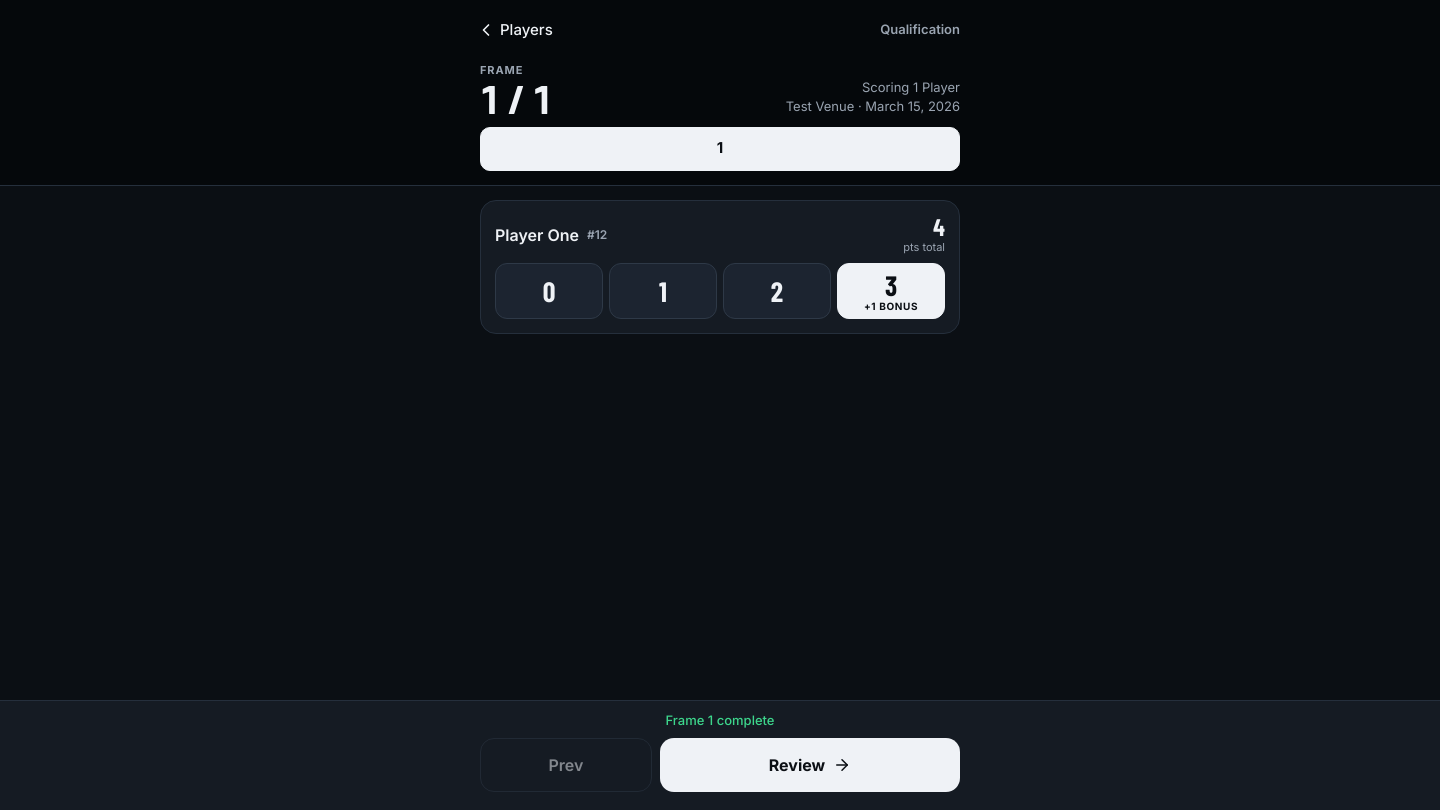
QualificationScoringPage › returns to scoring when editing a frame from review
Click the button "Review": click(810, 765) x1=660 y1=738 x2=960 y2=792
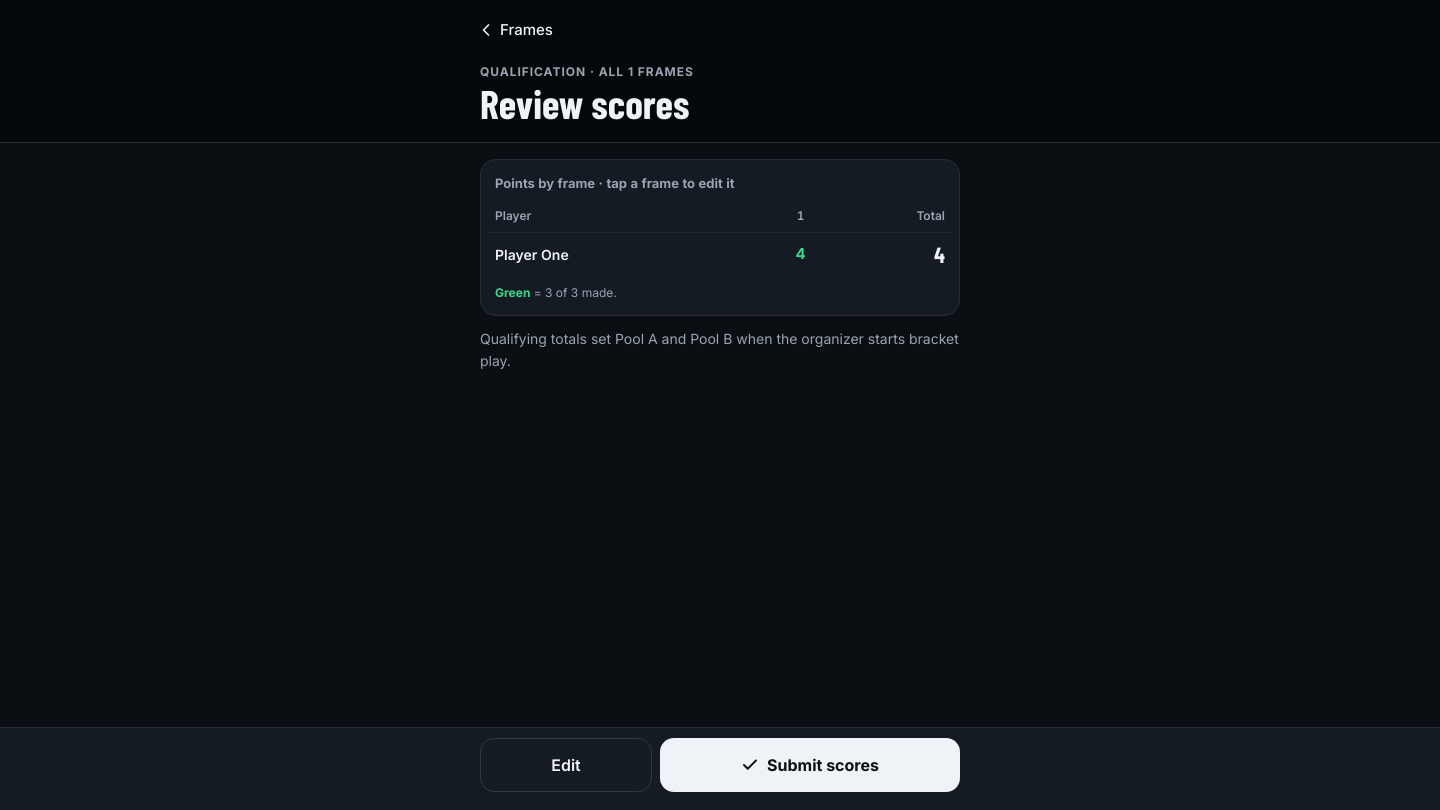
Expected: the heading "Review scores" is shown, x1=480 y1=79 x2=689 y2=127
Click the button titled "Edit frame 1": click(801, 216) x1=787 y1=200 x2=815 y2=232
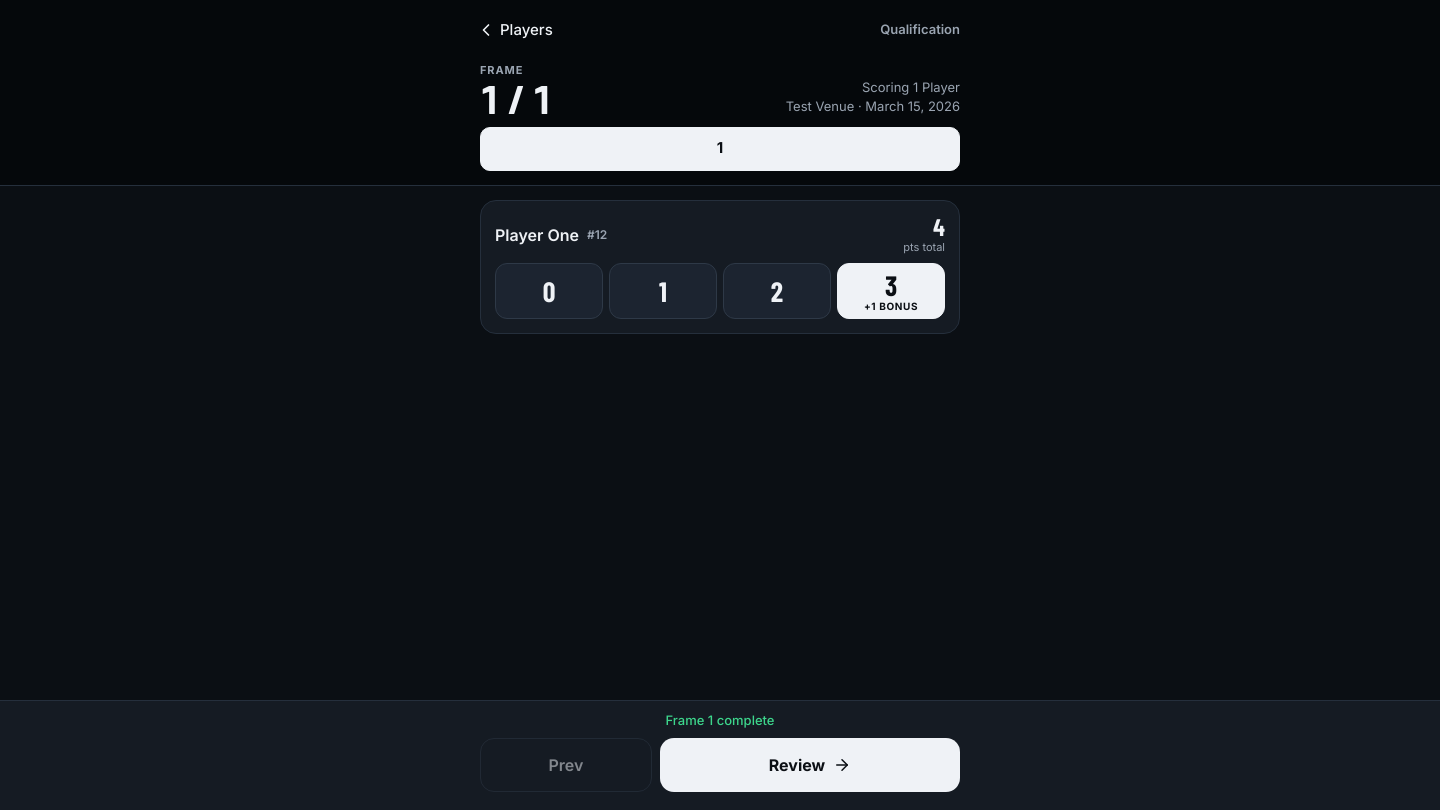
Expected: the text "1 / 1" is shown, x1=480 y1=78 x2=552 y2=116
